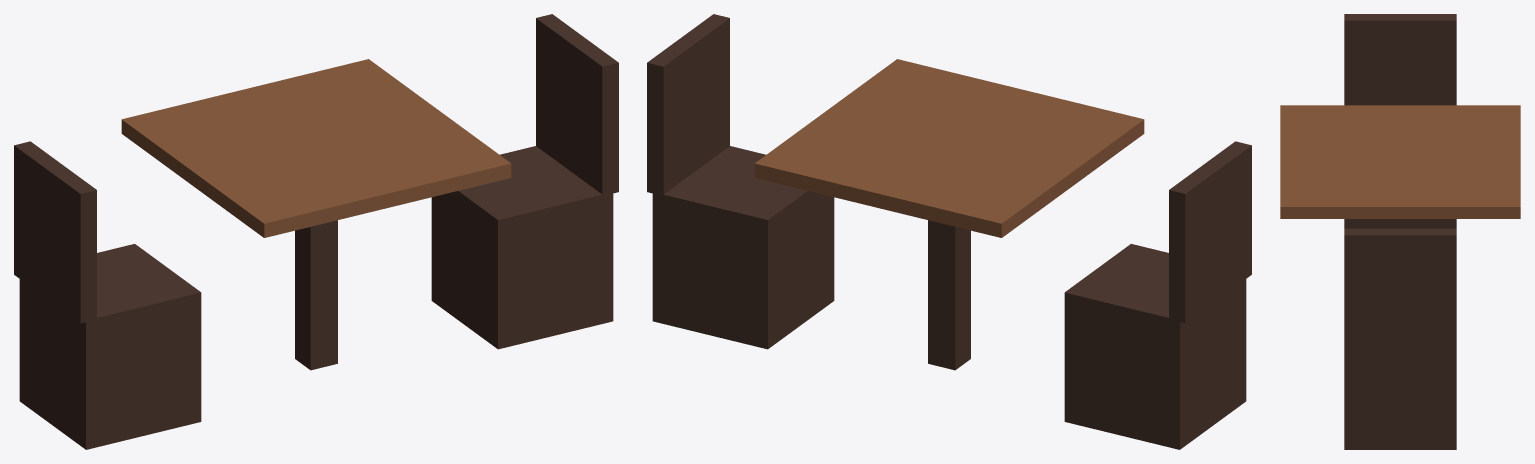
File: reading_table_1.glb
3 renders of one model, left to right at view 1: azimuth 30°, elevation 25°; view 2: azimuth 150°, elevation 25°; view 3: azimuth 270°, elevation 25°, orthographic. The views are drawn at different scales.
Parts seen in each view (by area): view 1: Box1, Box5, Box3, Box4, Box6, Box2; view 2: Box1, Box5, Box3, Box4, Box6, Box2; view 3: Box1, Box6, Box5, Box4, Box3, Box2.
Boxes of the visible parts, x1,y1,x2,y2 form: Box1: [121, 59, 511, 237]; Box5: [431, 146, 613, 349]; Box3: [19, 244, 201, 449]; Box4: [14, 141, 96, 323]; Box6: [536, 14, 618, 194]; Box2: [295, 220, 337, 370]; Box1: [754, 59, 1144, 237]; Box5: [652, 146, 834, 349]; Box3: [1064, 244, 1246, 449]; Box4: [1169, 141, 1251, 323]; Box6: [647, 14, 729, 195]; Box2: [928, 220, 970, 370]; Box1: [1280, 105, 1520, 218]; Box6: [1344, 228, 1456, 344]; Box5: [1344, 344, 1456, 449]; Box4: [1344, 14, 1456, 105]; Box3: [1344, 219, 1456, 228]; Box2: [1387, 219, 1413, 228].
Bounding box in the file's own units: 1.96 × 0.895 × 0.9.
